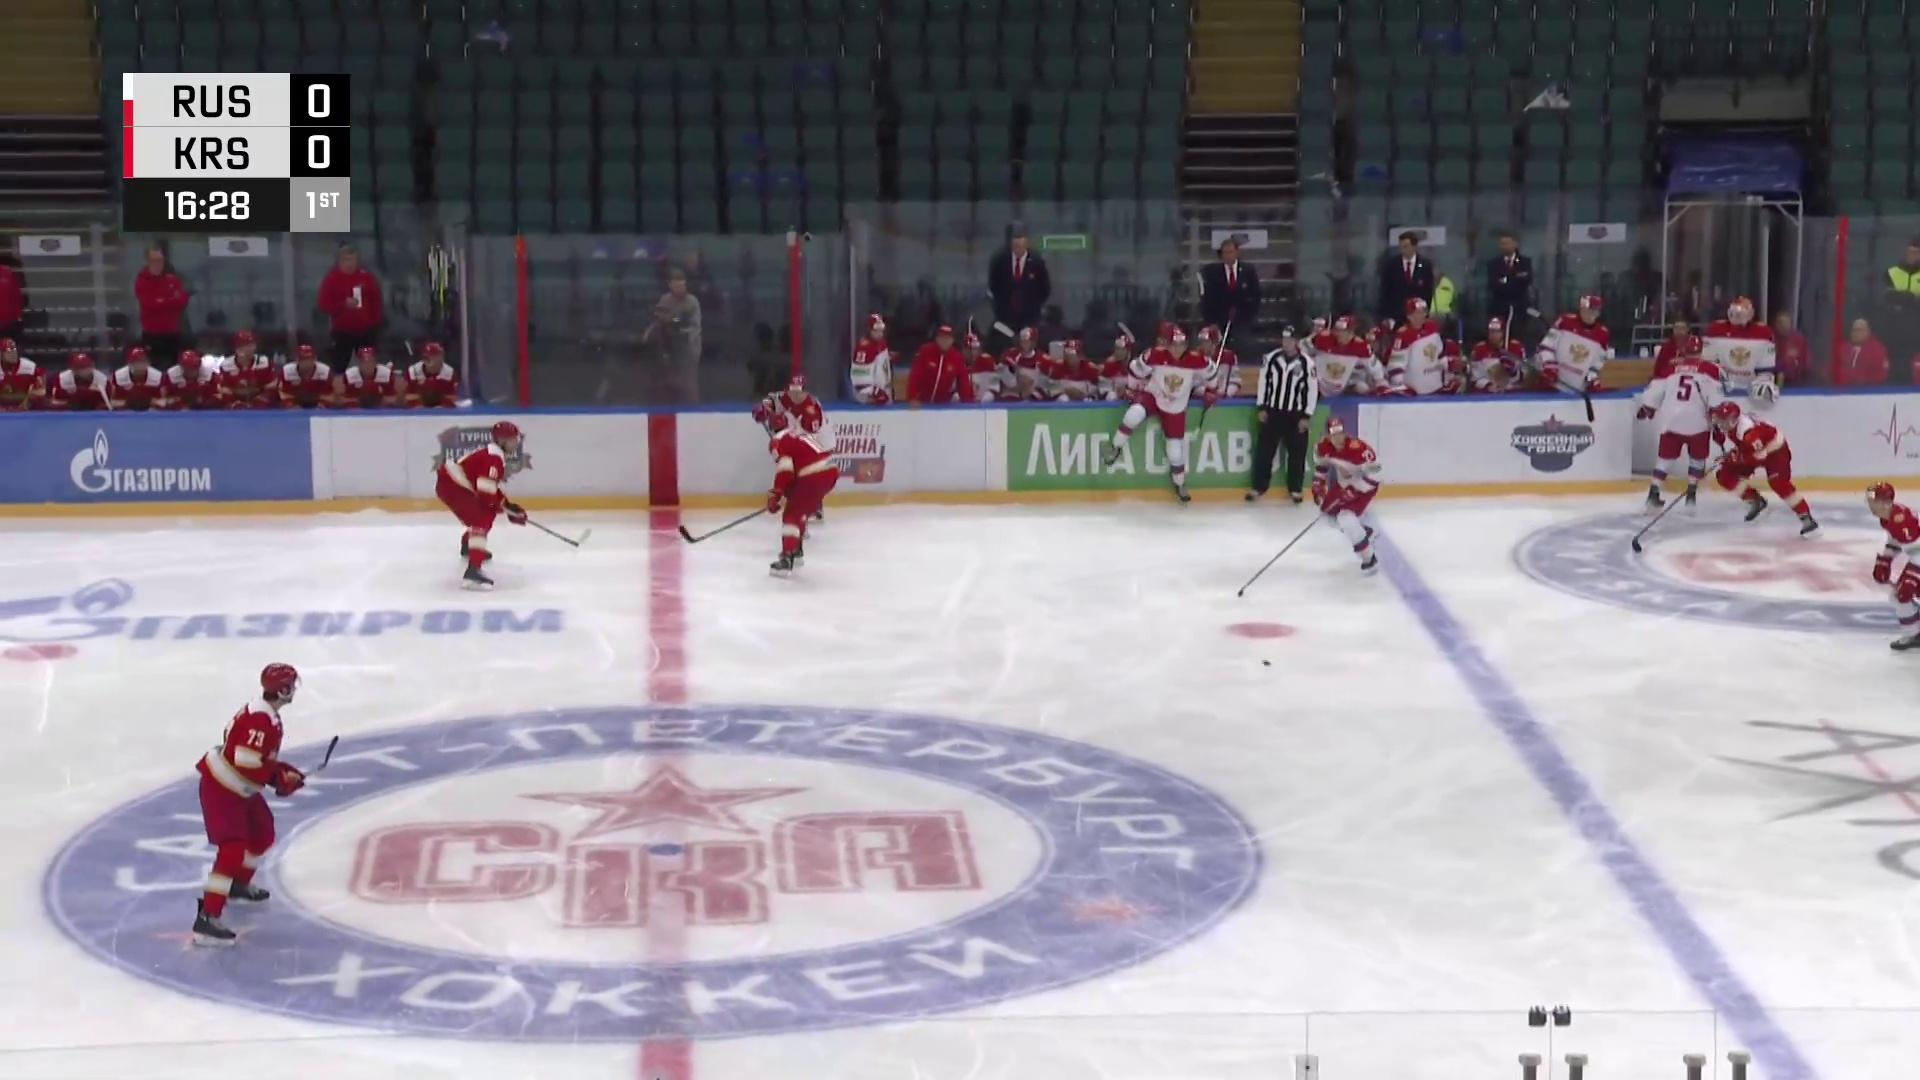ball: (1259, 658, 1274, 667)
